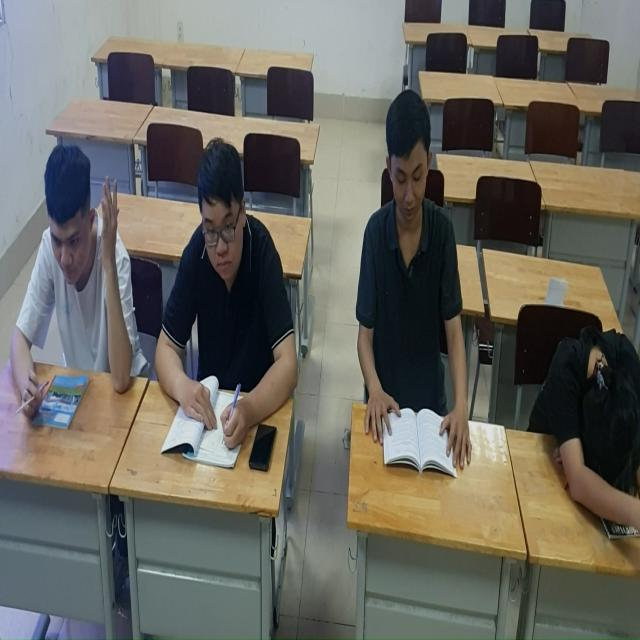raise_hand: (2, 120, 143, 434)
read: (353, 68, 475, 499), (151, 140, 297, 467)
sleep: (540, 300, 640, 544)
